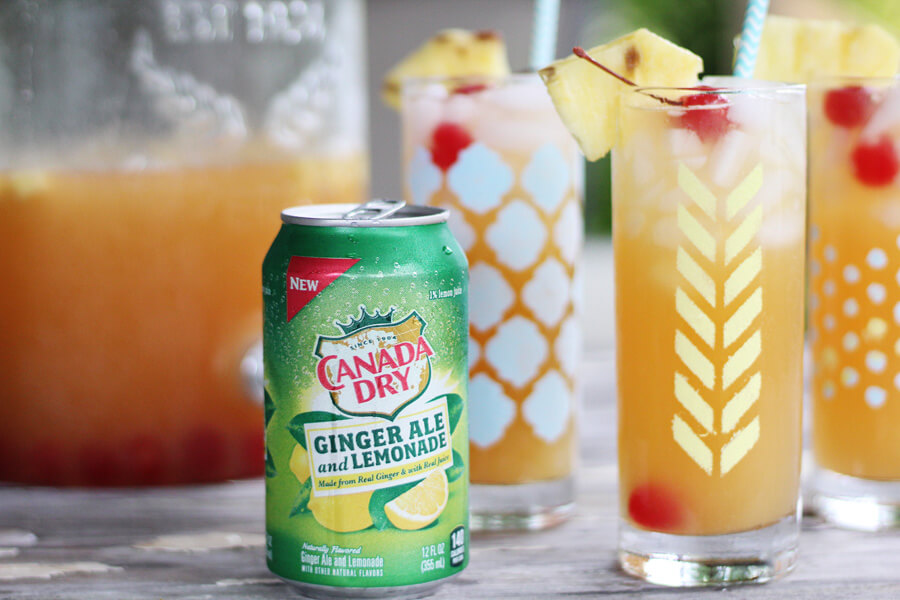Lata: (254, 194, 471, 594)
